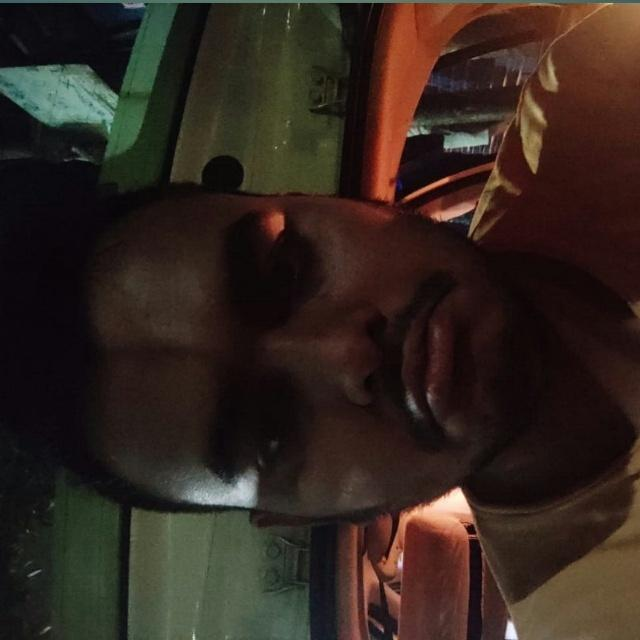Sad: (52, 183, 555, 570)
